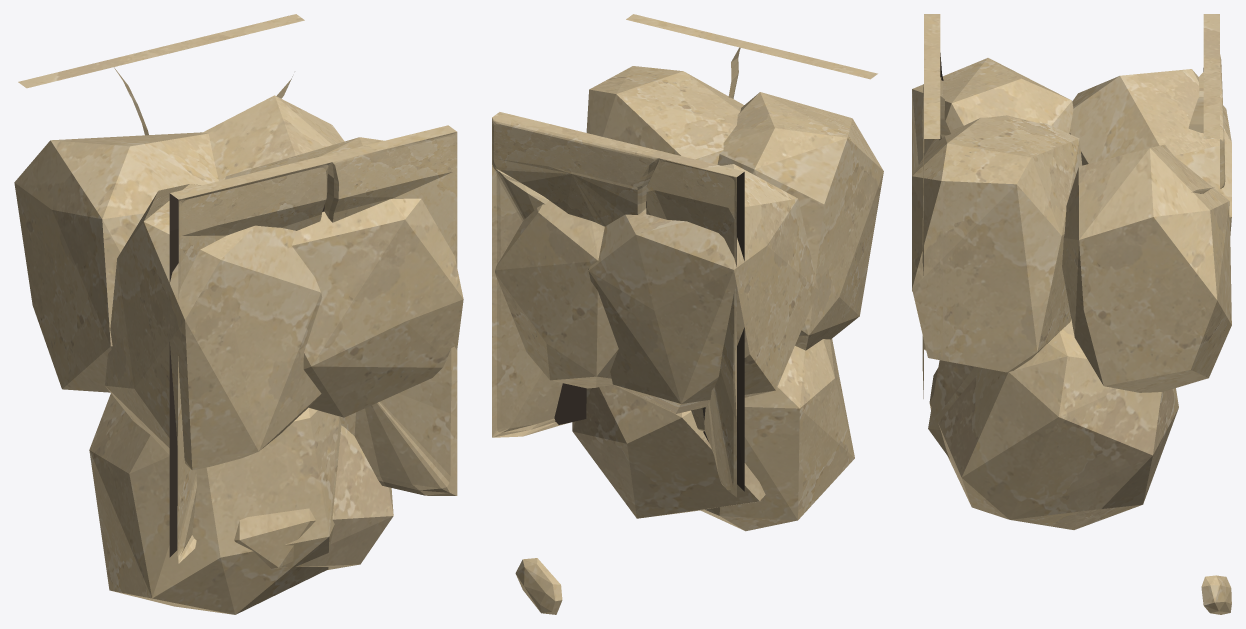
File: ground_bottom_strip_10.glb
3 renders of one model, left to right at view 1: azimuth 30°, elevation 25°; view 2: azimuth 150°, elevation 25°; view 3: azimuth 270°, elevation 25°, orthographic. The views are drawn at different scales.
Parts seen in each view (by area): view 1: GroundBottomStrip10_Body; view 2: GroundBottomStrip10_Body; view 3: GroundBottomStrip10_Body.
Part boxes in pixels (x1,y1,x2,y2): GroundBottomStrip10_Body: (14,14,463,614); GroundBottomStrip10_Body: (492,14,883,614); GroundBottomStrip10_Body: (912,14,1231,614).
Size of the model in its own units: 1 by 1.88 by 1.08.
9 materials, 8 textured.
